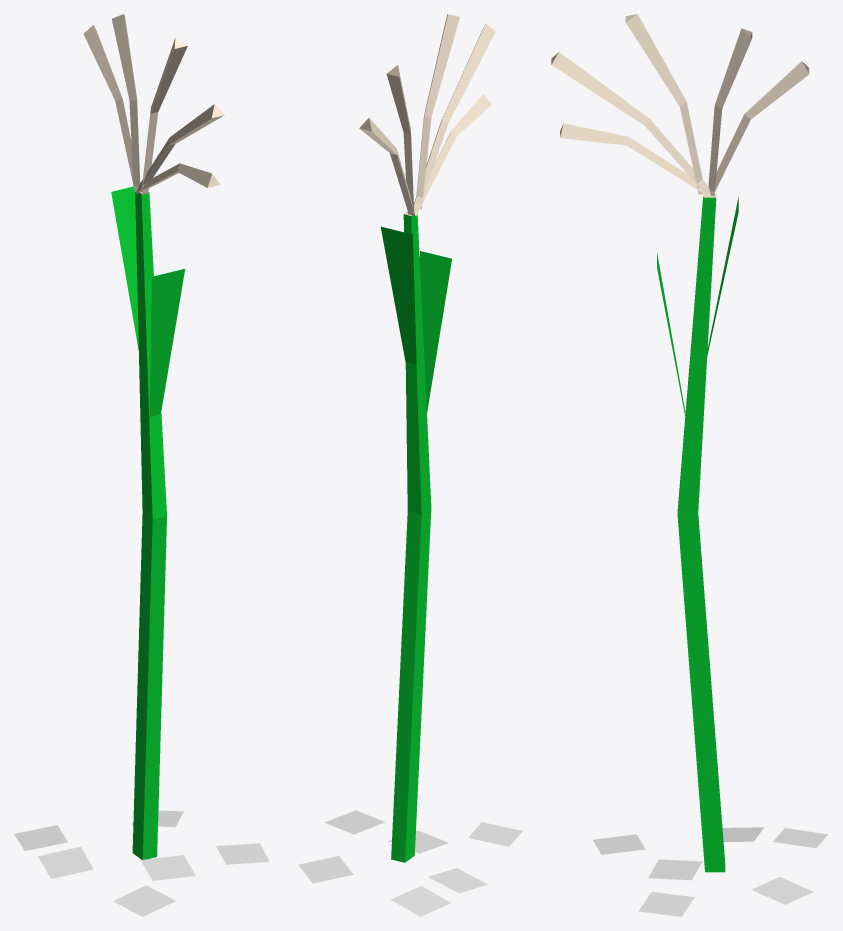
Rendered from rice.glb.
The picture shows the model from 3 angles, left to right: view 1: azimuth 30°, elevation 25°; view 2: azimuth 150°, elevation 25°; view 3: azimuth 270°, elevation 25°; orthographic projection. The views are drawn at different scales.
Visible parts, largest first — view 1: rice, rice_copy.001, rice_copy.007, rice_copy.005, rice_copy.003, rice_copy.008; view 2: rice, rice_copy.008, rice_copy.010, rice_copy.007, rice_copy.001, rice_copy.003; view 3: rice, rice_copy.003, rice_copy.010, rice_copy.005, rice_copy.007, rice_copy.008.
Boxes of the visible parts, x1,y1,x2,y2 form: rice: [83, 14, 224, 859]; rice_copy.001: [38, 847, 93, 878]; rice_copy.007: [113, 885, 175, 916]; rice_copy.005: [140, 855, 195, 880]; rice_copy.003: [216, 843, 269, 864]; rice_copy.008: [14, 825, 67, 850]; rice: [359, 14, 495, 862]; rice_copy.008: [390, 886, 450, 916]; rice_copy.010: [298, 856, 353, 883]; rice_copy.007: [468, 822, 522, 846]; rice_copy.001: [428, 868, 487, 893]; rice_copy.003: [324, 810, 384, 834]; rice: [551, 14, 809, 872]; rice_copy.003: [638, 892, 694, 916]; rice_copy.010: [751, 877, 813, 904]; rice_copy.005: [648, 859, 702, 880]; rice_copy.007: [593, 834, 645, 854]; rice_copy.008: [773, 828, 828, 848].
Bounding box in the file's own units: 0.1225 × 0.5259 × 0.1545.
